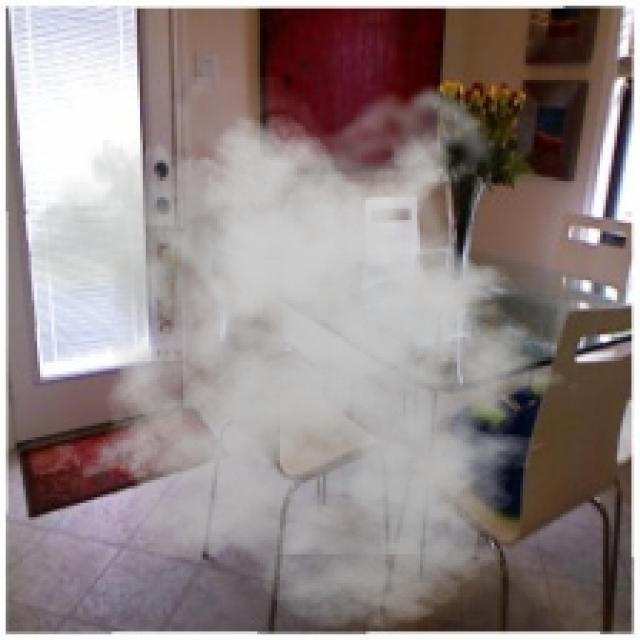smoke: (31, 77, 588, 632)
